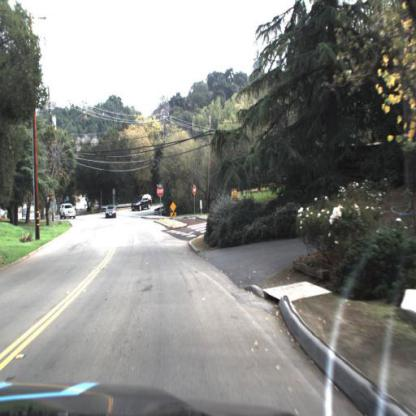car: (130, 192, 153, 216), (57, 201, 79, 225), (105, 204, 119, 221)
